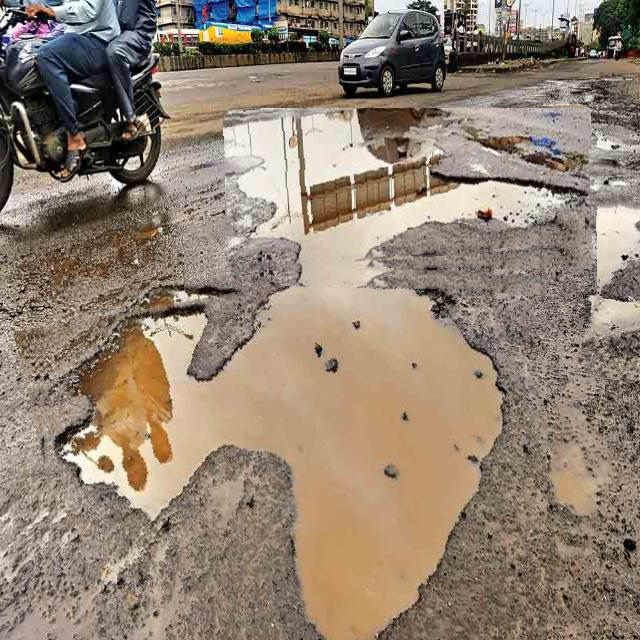Pothole: (31, 249, 547, 640), (225, 108, 591, 272), (585, 196, 640, 380)
